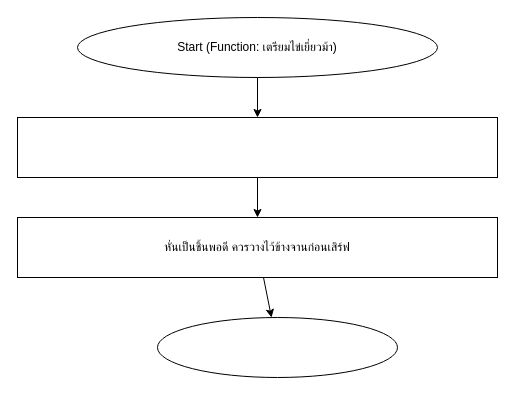
Some shapes in this 515 by 395 pixel diagram are drawn without their labels. Here are the shapes that lost their labels. From the top down, the centre of each, then its label:
point 257,147: ล้างเปลือก (ถ้ามีเปื้อน) / ปอกเปลือก
point 277,347: Stop (กลับไป Main)
